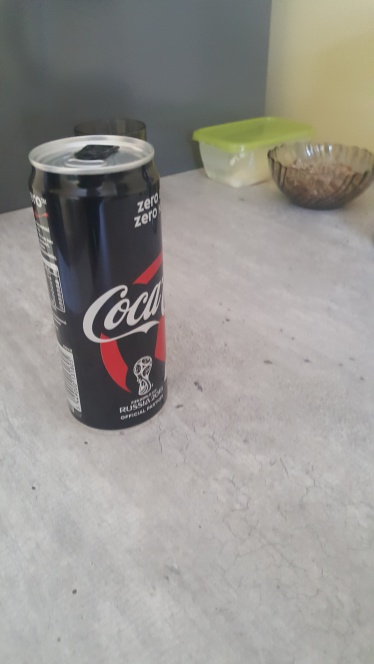colazero: (34, 134, 170, 425)
